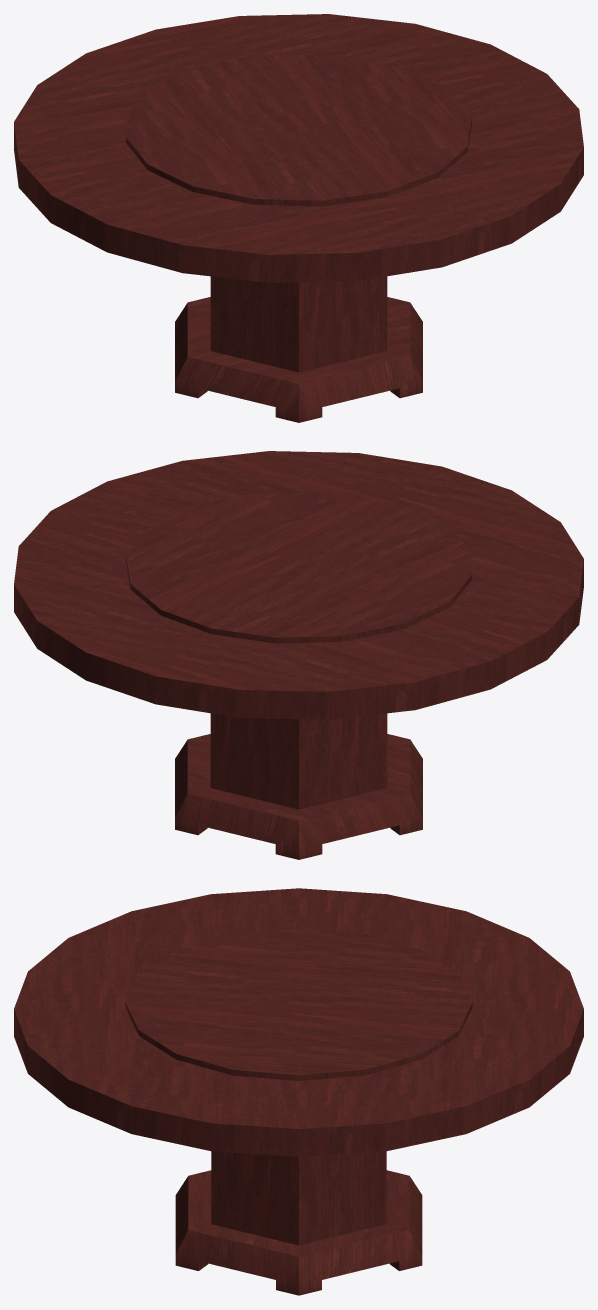
File: rosewood_dining_table.FBX
3 renders of one model, top to bottom at view 1: azimuth 30°, elevation 25°; view 2: azimuth 150°, elevation 25°; view 3: azimuth 270°, elevation 25°, orthographic.
Visible parts, largest first — view 1: Cylinder002; view 2: Cylinder002; view 3: Cylinder002.
Part boxes in pixels (x1=…): Cylinder002: x1=14, y1=14, x2=583, y2=422; Cylinder002: x1=14, y1=451, x2=583, y2=859; Cylinder002: x1=14, y1=888, x2=583, y2=1295.
Bounding box in the file's own units: 1.8 × 1.8 × 0.8133.
1 material, 1 textured.
